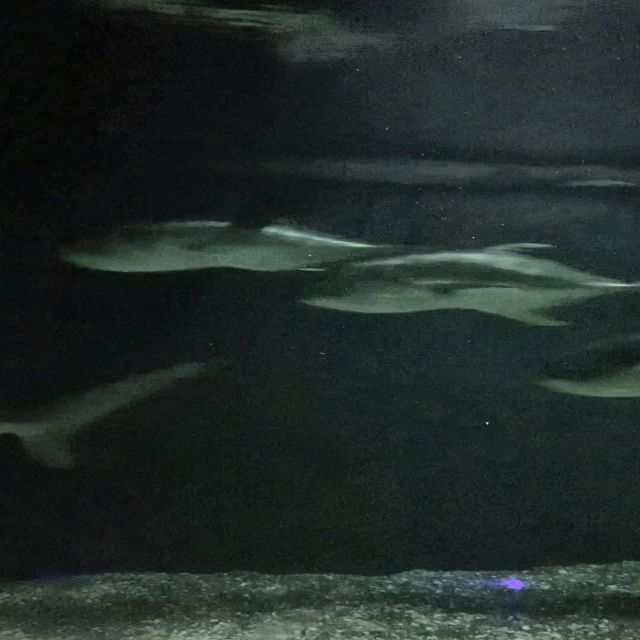fish: (290, 239, 638, 331), (56, 209, 446, 276), (532, 339, 639, 404)
shark: (0, 353, 219, 472)
